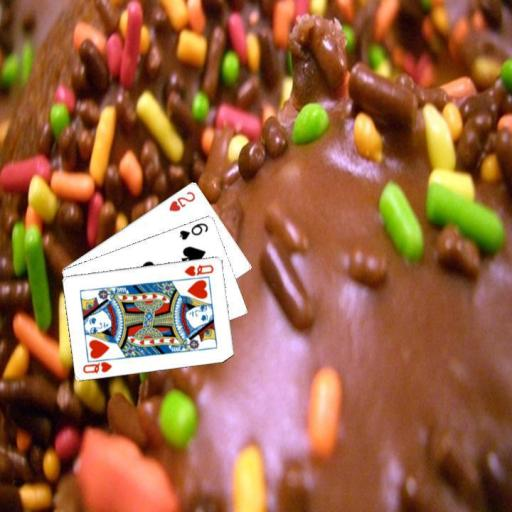2H: (166, 188, 197, 213)
6S: (176, 220, 210, 241)
QH: (80, 355, 117, 375), (182, 261, 216, 277)
